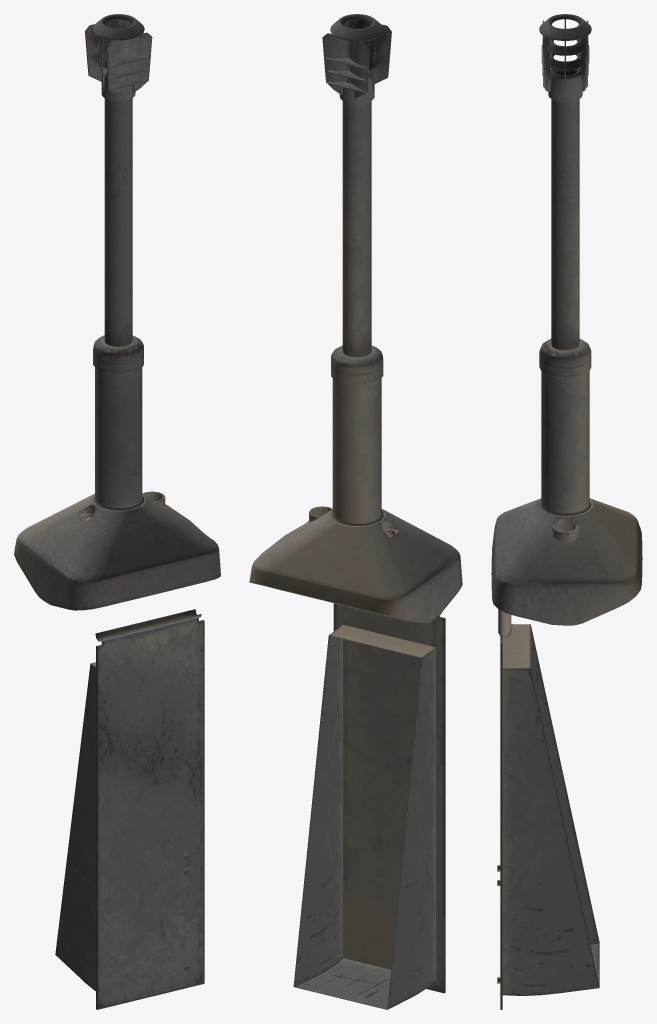
File: Gun_04.glb
The picture shows the model from 3 angles, left to right: view 1: azimuth 30°, elevation 25°; view 2: azimuth 150°, elevation 25°; view 3: azimuth 270°, elevation 25°; orthographic projection. The views are drawn at different scales.
Visible parts, largest first — view 1: set_0_group_0; view 2: set_0_group_0; view 3: set_0_group_0.
Part boxes in pixels (x1,y1,x2,y2): set_0_group_0: (14,14,220,1009); set_0_group_0: (249,14,462,1009); set_0_group_0: (491,14,642,1009).
Size of the model in its own units: 0.6675 by 4.05 by 0.576.
Materials: 1 (1 with a texture image).
